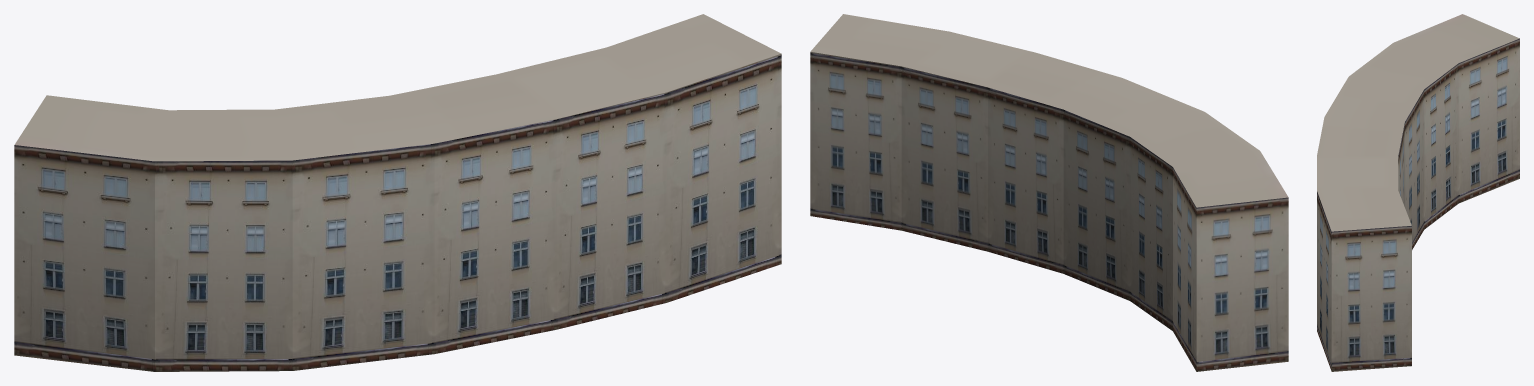
File: building3.glb
The picture shows the model from 3 angles, left to right: view 1: azimuth 30°, elevation 25°; view 2: azimuth 150°, elevation 25°; view 3: azimuth 270°, elevation 25°; orthographic projection. The views are drawn at different scales.
Visible parts, largest first — view 1: building3; view 2: building3; view 3: building3.
Boxes of the visible parts, box(x1,y1,x2,y2) form: building3: box(14, 14, 781, 371); building3: box(810, 14, 1288, 371); building3: box(1317, 14, 1519, 371).
Bounding box in the file's own units: 66.68 × 20.05 × 26.26.
1 material, 1 textured.
